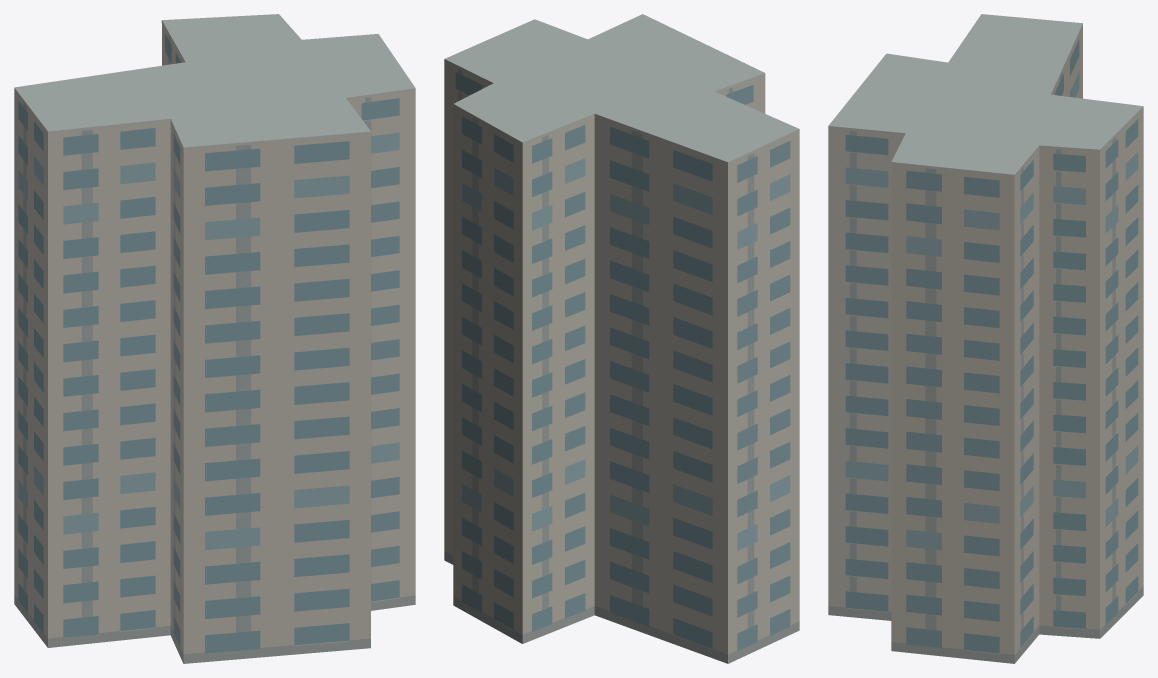
Rendered from residential-c861e3de-8187-456d-a255-177be0447e5c.glb.
3 renders of one model, left to right at view 1: azimuth 30°, elevation 25°; view 2: azimuth 150°, elevation 25°; view 3: azimuth 270°, elevation 25°, orthographic. The views are drawn at different scales.
Parts seen in each view (by area): view 1: residential-c861e3de-8187-456d-a255-177be0447e5c.tmp; view 2: residential-c861e3de-8187-456d-a255-177be0447e5c.tmp; view 3: residential-c861e3de-8187-456d-a255-177be0447e5c.tmp.
Boxes of the visible parts, x1,y1,x2,y2 form: residential-c861e3de-8187-456d-a255-177be0447e5c.tmp: (14, 14, 415, 663); residential-c861e3de-8187-456d-a255-177be0447e5c.tmp: (444, 14, 799, 663); residential-c861e3de-8187-456d-a255-177be0447e5c.tmp: (828, 14, 1143, 663).
Bounding box in the file's own units: 31.04 × 44 × 25.73.
